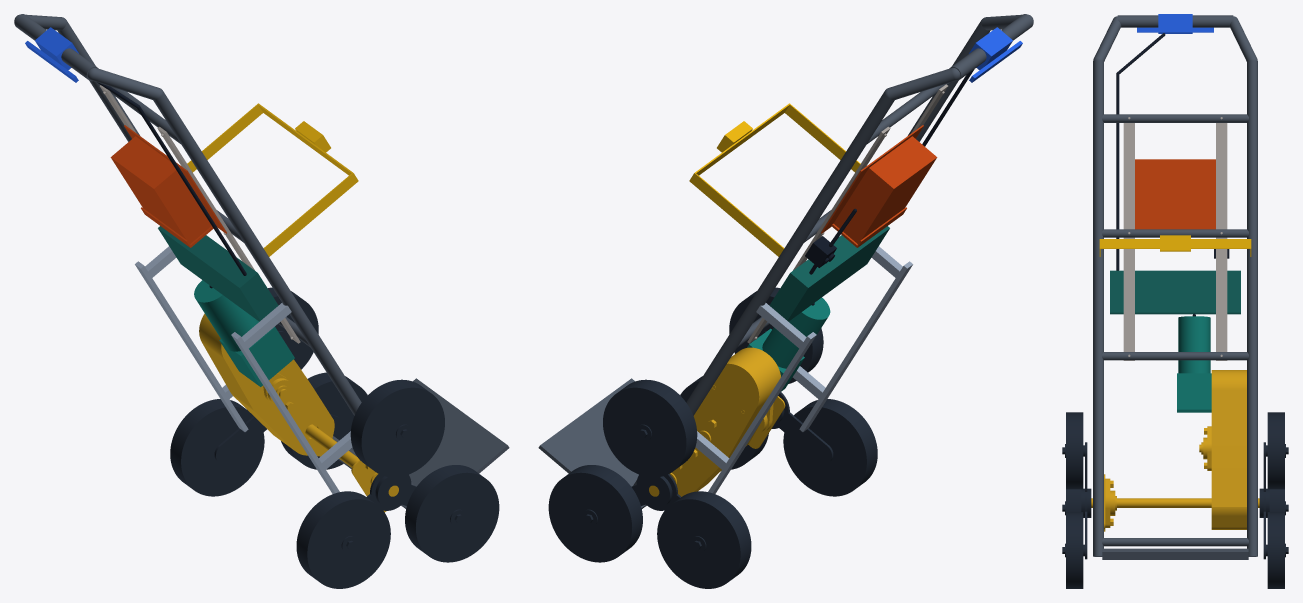
3 renders of one model, left to right at view 1: azimuth 30°, elevation 25°; view 2: azimuth 150°, elevation 25°; view 3: azimuth 270°, elevation 25°, orthographic. The views are drawn at different scales.
Parts seen in each view (by area): view 1: Tri-star wheel clusters (pair), Steel hand truck frame and toe plate, Cluster shaft, bearings and chain drive, 24 V LiFePO4 pack, 10 Ah, Nosing guard skids, Motor driver, 24 V 30 A, Worm gearmotor with brake, 24 V, Load strap with ratchet, Component uprights, Handle with dead-man grip, Main switch, fuse and harness; view 2: Tri-star wheel clusters (pair), Steel hand truck frame and toe plate, Cluster shaft, bearings and chain drive, 24 V LiFePO4 pack, 10 Ah, Nosing guard skids, Motor driver, 24 V 30 A, Load strap with ratchet, Worm gearmotor with brake, 24 V, Component uprights, Main switch, fuse and harness, Handle with dead-man grip; view 3: Steel hand truck frame and toe plate, Cluster shaft, bearings and chain drive, Tri-star wheel clusters (pair), 24 V LiFePO4 pack, 10 Ah, Component uprights, Motor driver, 24 V 30 A, Worm gearmotor with brake, 24 V, Load strap with ratchet, Main switch, fuse and harness, Handle with dead-man grip.
Part boxes in pixels (box(x1,y1,x2,y2)): Tri-star wheel clusters (pair): box(170, 287, 499, 588); Steel hand truck frame and toe plate: box(14, 14, 509, 508); Cluster shaft, bearings and chain drive: box(199, 313, 398, 512); 24 V LiFePO4 pack, 10 Ah: box(110, 125, 226, 247); Nosing guard skids: box(135, 246, 352, 493); Motor driver, 24 V 30 A: box(158, 226, 278, 321); Worm gearmotor with brake, 24 V: box(194, 280, 294, 386); Load strap with ratchet: box(187, 103, 358, 256); Component uprights: box(99, 85, 300, 343); Handle with dead-man grip: box(25, 27, 78, 82); Main switch, fuse and harness: box(96, 82, 246, 288); Tri-star wheel clusters (pair): box(548, 287, 877, 588); Steel hand truck frame and toe plate: box(538, 14, 1033, 508); Cluster shaft, bearings and chain drive: box(649, 347, 785, 496); 24 V LiFePO4 pack, 10 Ah: box(821, 125, 937, 247); Nosing guard skids: box(695, 246, 912, 493); Motor driver, 24 V 30 A: box(769, 226, 889, 321); Load strap with ratchet: box(689, 103, 860, 256); Worm gearmotor with brake, 24 V: box(747, 297, 830, 391); Component uprights: box(747, 84, 948, 343); Main switch, fuse and harness: box(805, 69, 974, 305); Handle with dead-man grip: box(969, 27, 1022, 82); Steel hand truck frame and toe plate: box(1093, 15, 1257, 559); Cluster shaft, bearings and chain drive: box(1091, 370, 1259, 531); Tri-star wheel clusters (pair): box(1062, 412, 1288, 588); 24 V LiFePO4 pack, 10 Ah: box(1135, 159, 1215, 229); Component uprights: box(1123, 117, 1227, 360); Motor driver, 24 V 30 A: box(1110, 270, 1240, 314); Worm gearmotor with brake, 24 V: box(1177, 316, 1211, 412); Load strap with ratchet: box(1099, 235, 1251, 256); Main switch, fuse and harness: box(1116, 33, 1229, 316); Handle with dead-man grip: box(1137, 14, 1213, 33).
Size of the model in its own units: 1 by 1.27 by 0.5878.
